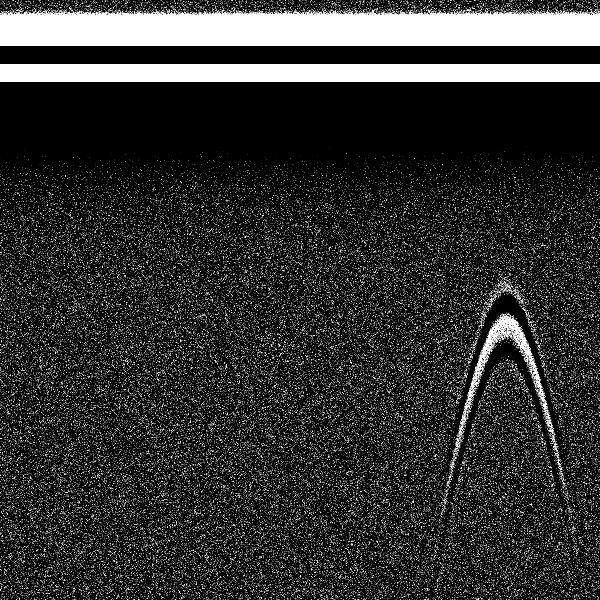pipe: (460, 5, 551, 384)
